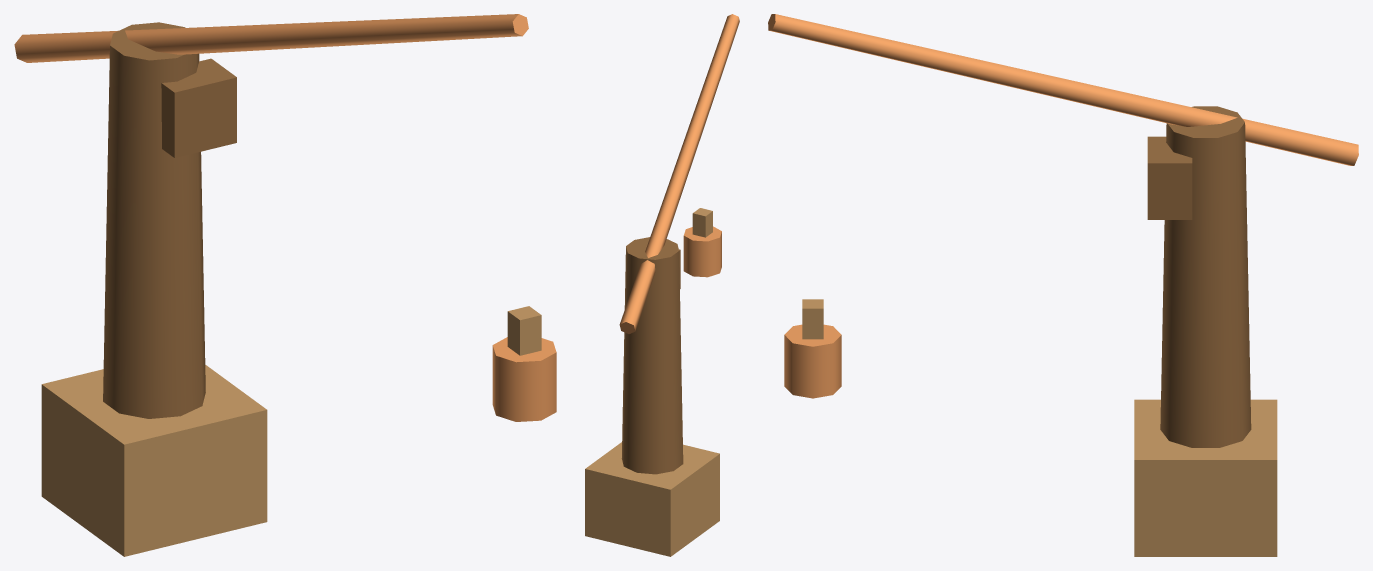
The model's file is fishing_spot.glb.
The picture shows the model from 3 angles, left to right: view 1: azimuth 30°, elevation 25°; view 2: azimuth 150°, elevation 25°; view 3: azimuth 270°, elevation 25°; orthographic projection. The views are drawn at different scales.
Parts seen in each view (by area): view 1: fishing_spot; view 2: fishing_spot; view 3: fishing_spot.
Boxes of the visible parts, bbox=[...] form: fishing_spot: bbox=[14, 14, 556, 556]; fishing_spot: bbox=[585, 14, 739, 556]; fishing_spot: bbox=[768, 14, 1358, 556].
Bounding box in the file's own units: 13.6 × 34.7 × 33.09.
